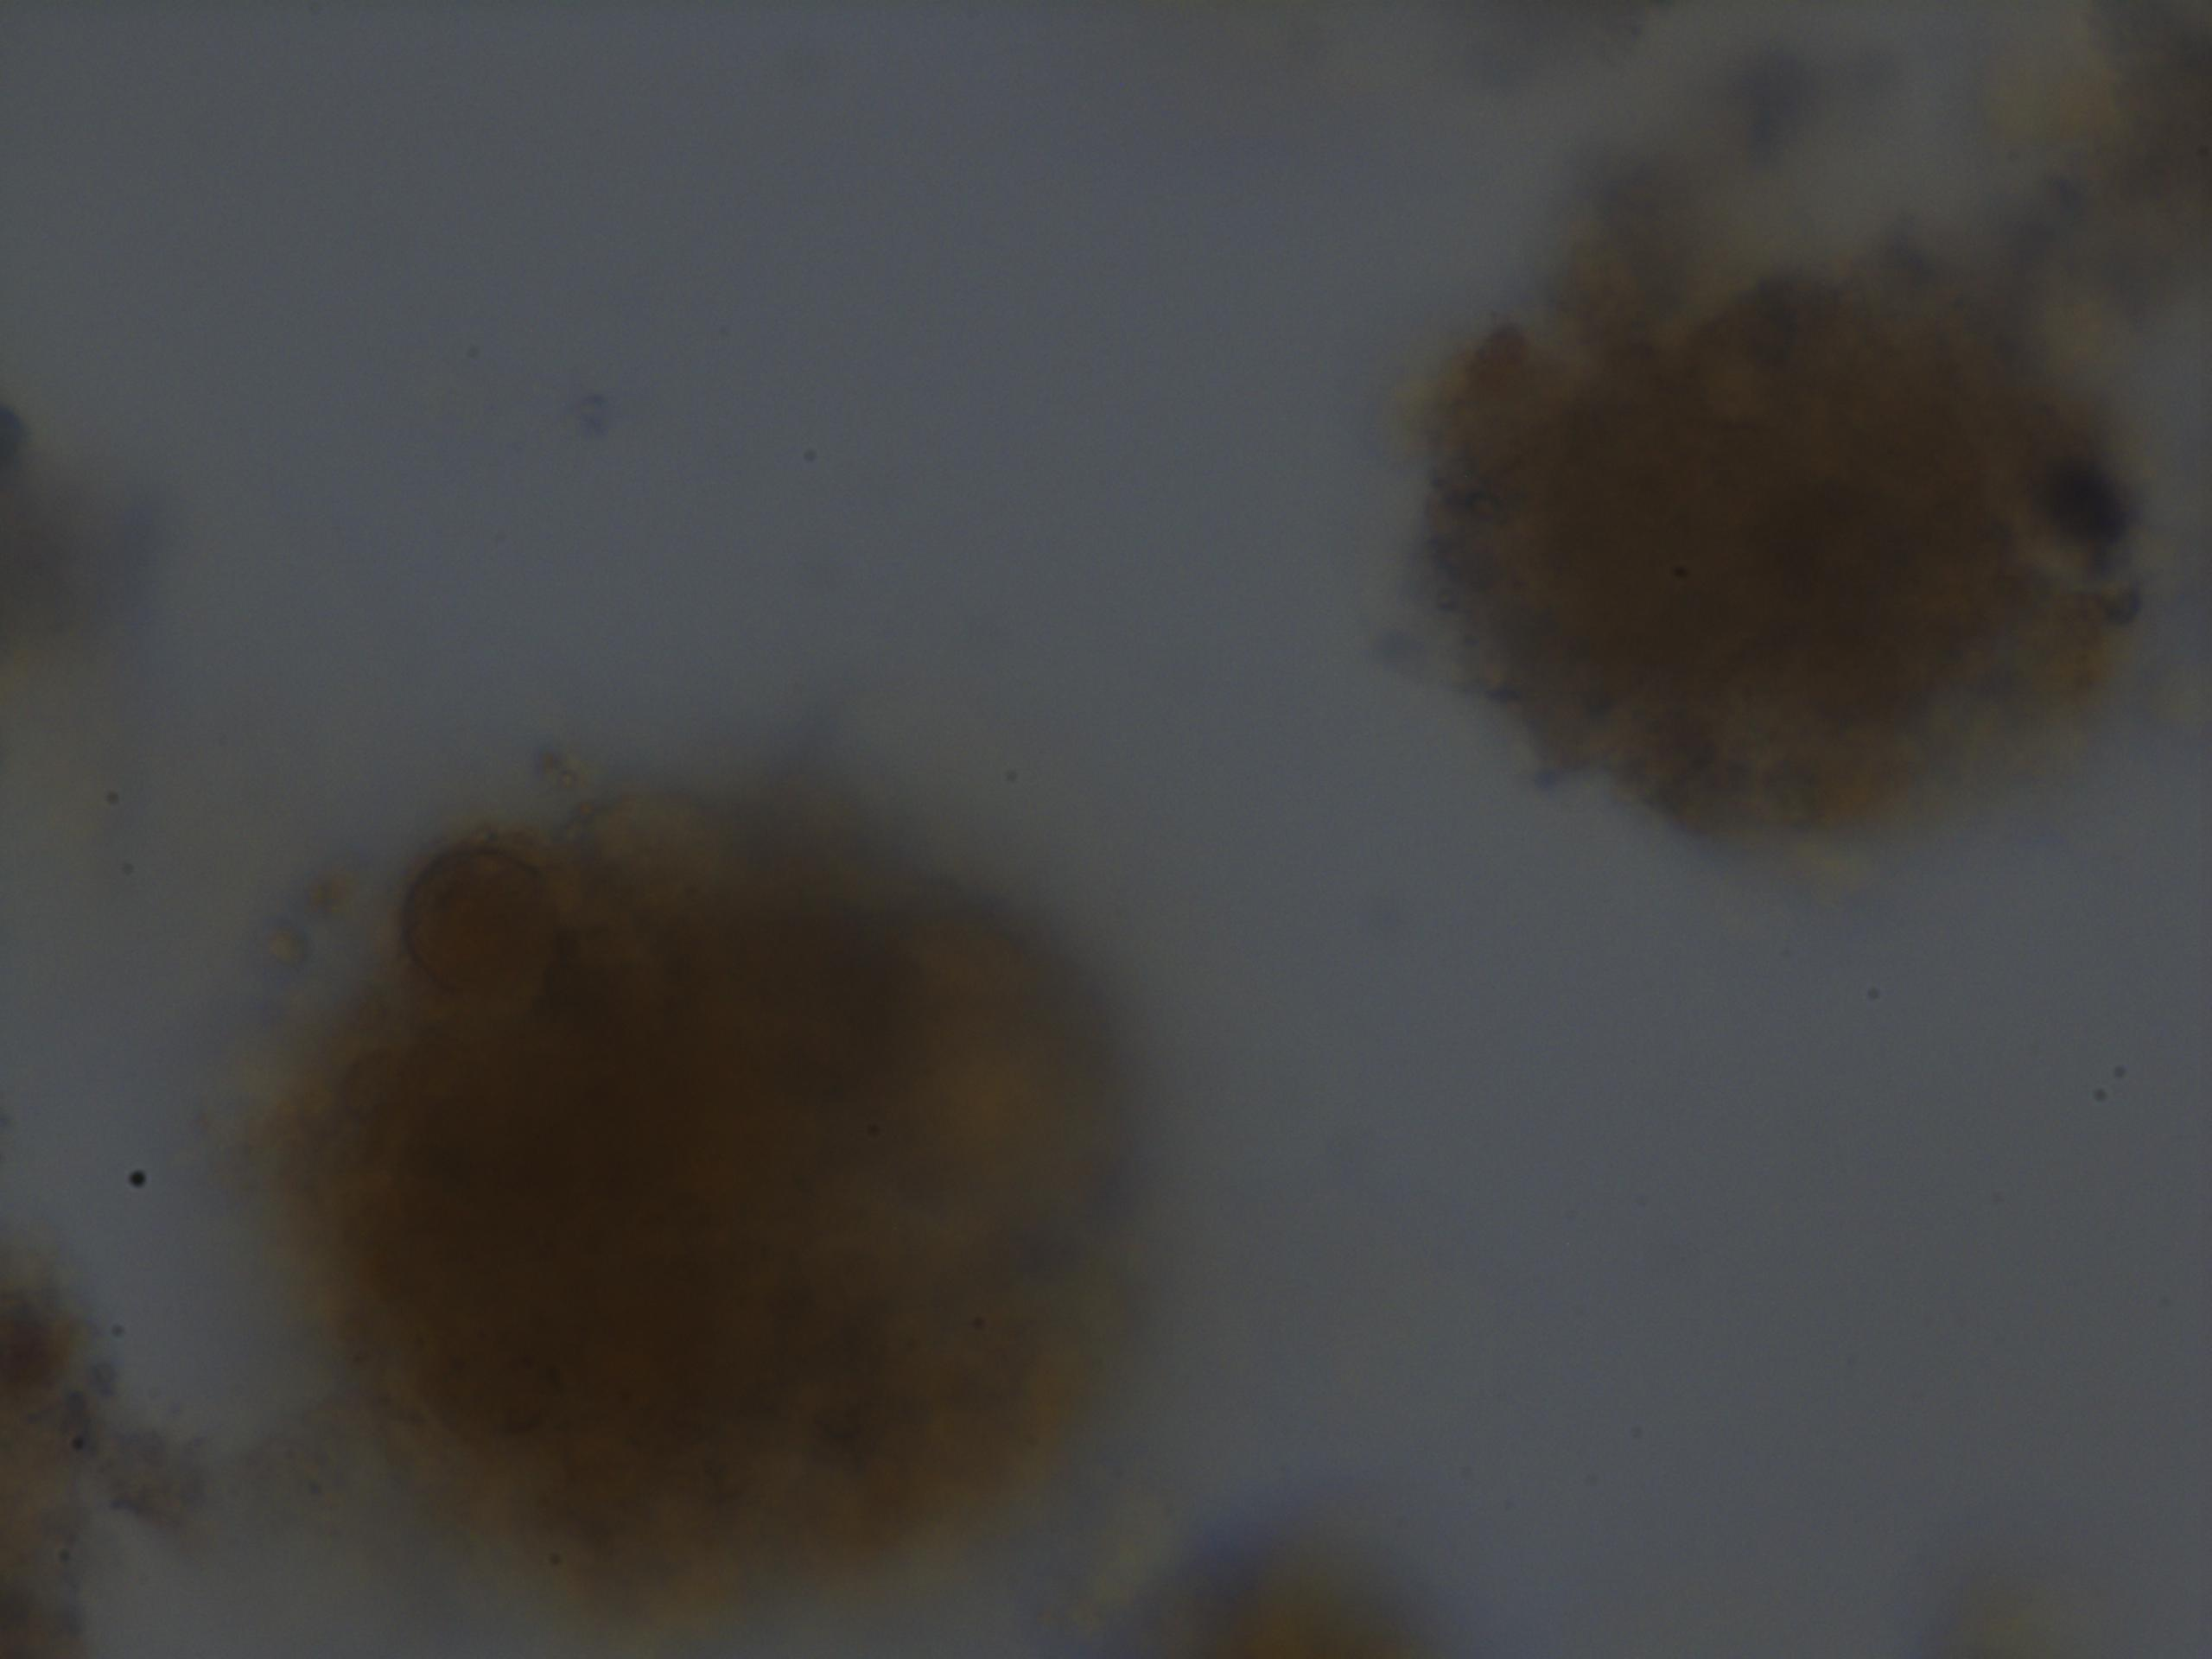spherical_floc: (228, 777, 1193, 1612), (1352, 223, 2193, 845)
